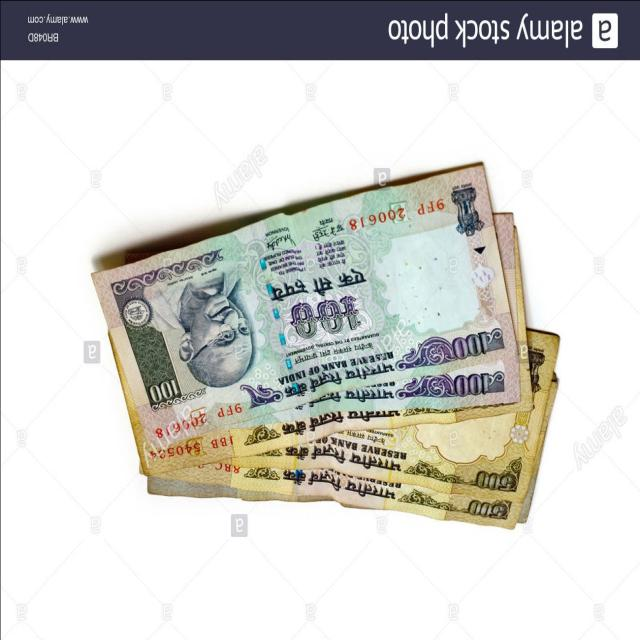100IndianRupees: (94, 189, 518, 454)
